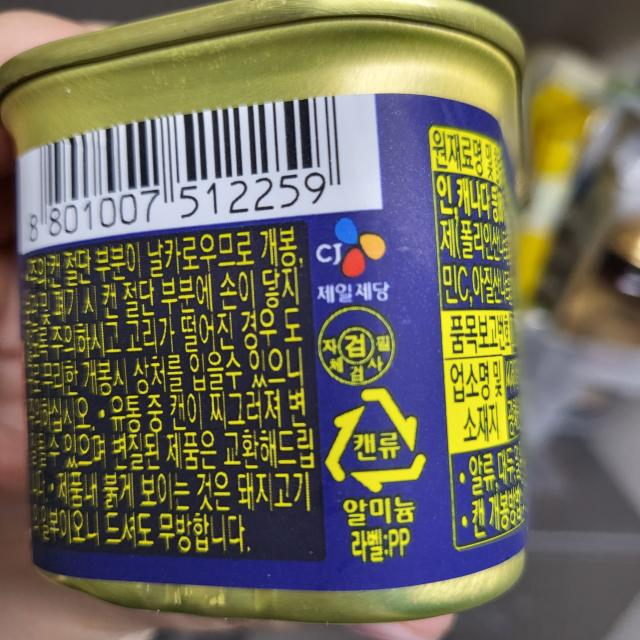Can: (322, 385, 431, 495)
